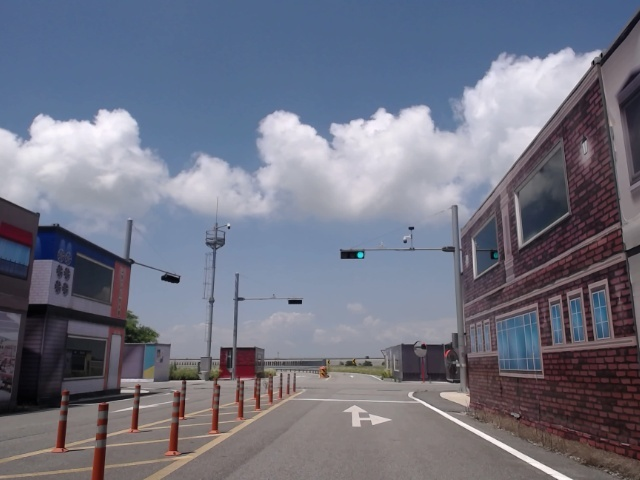green_3: (340, 250, 364, 258)
